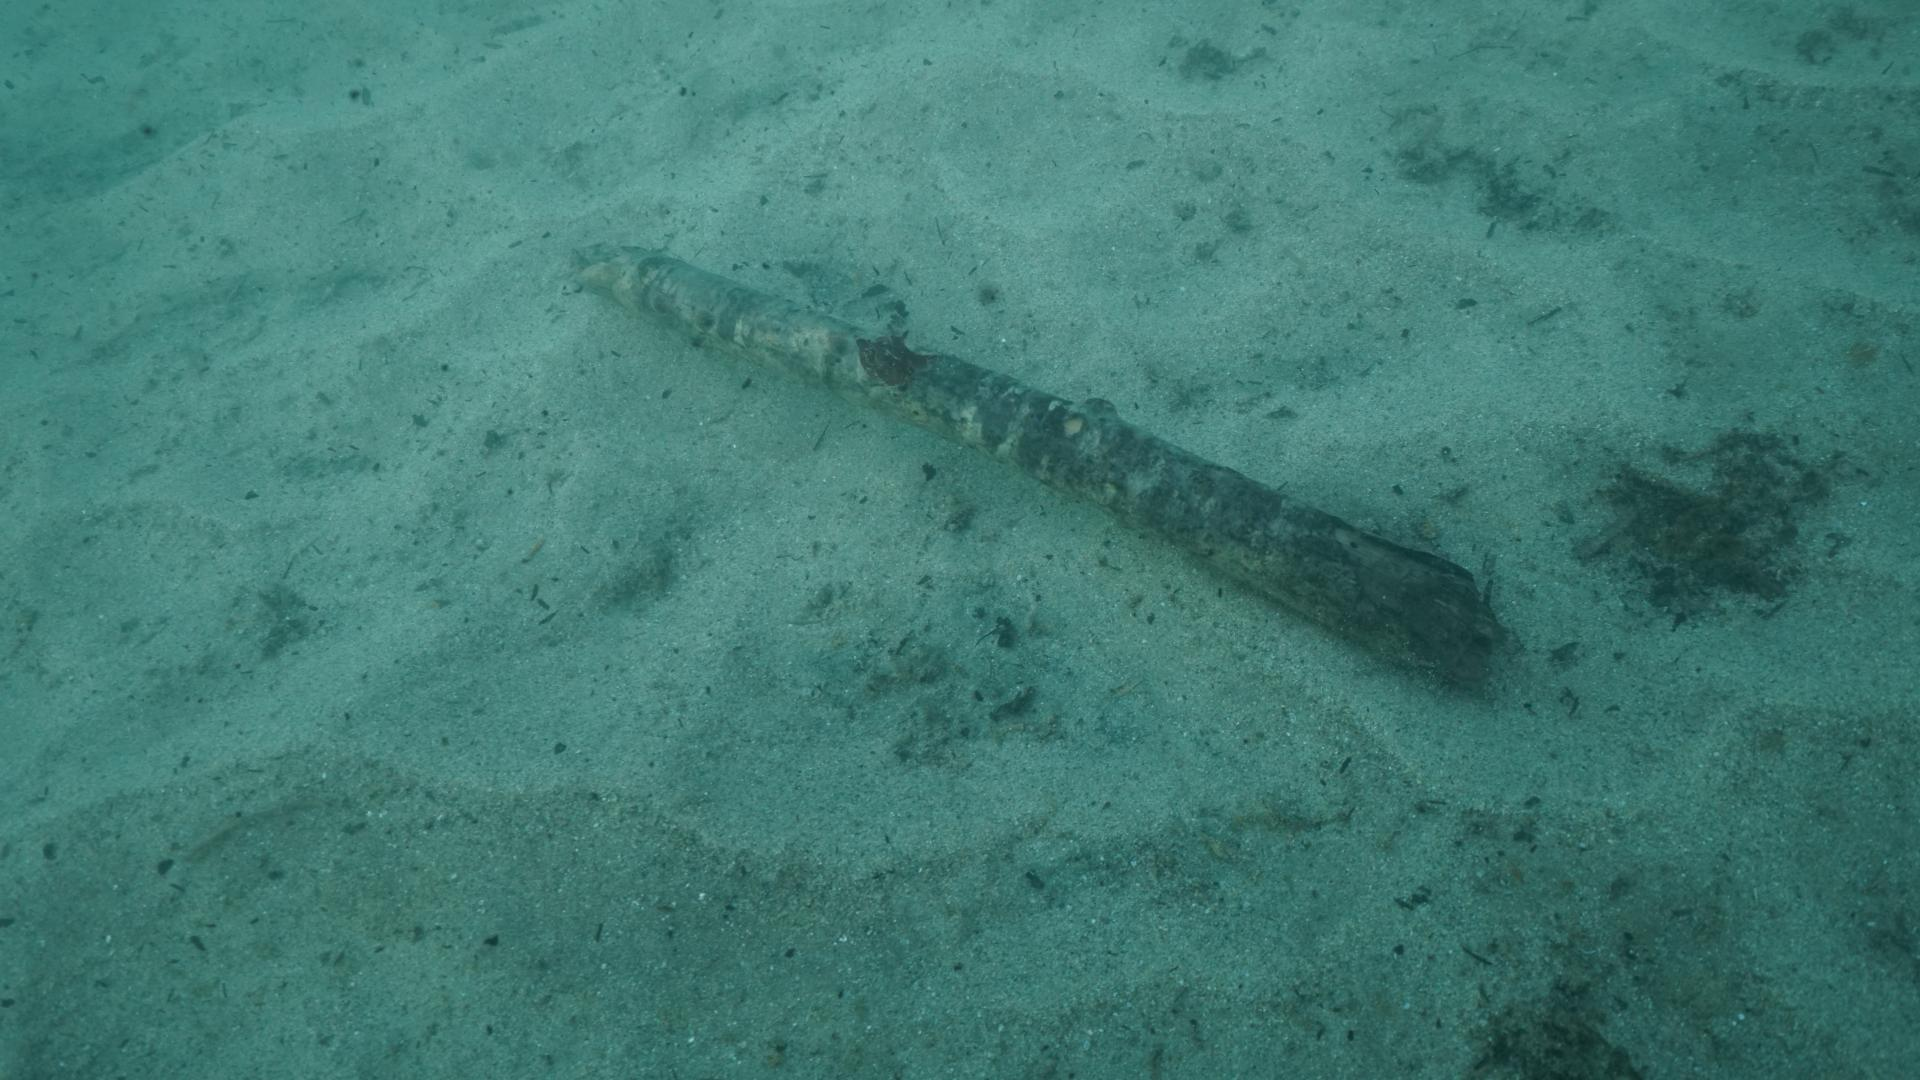wood: (574, 239, 1507, 695)
